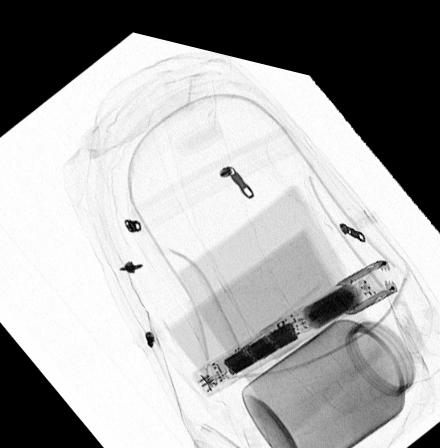Baton: (190, 238, 398, 387)
